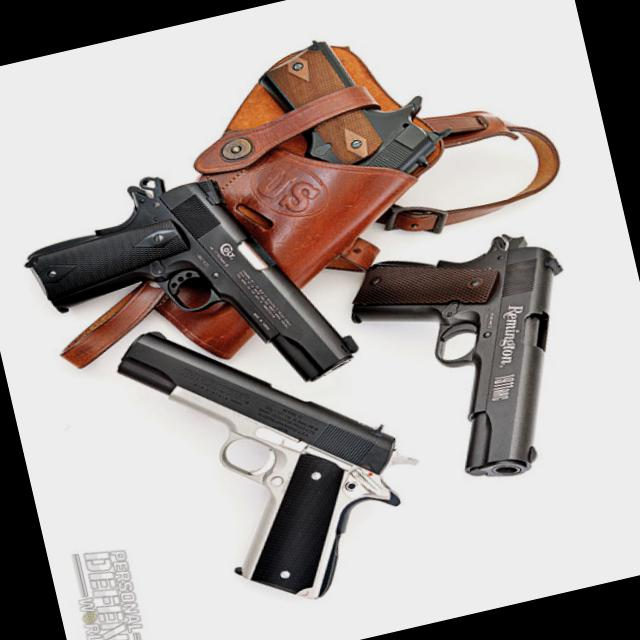handgun: (101, 274, 460, 639), (18, 134, 374, 438), (339, 193, 630, 511)
